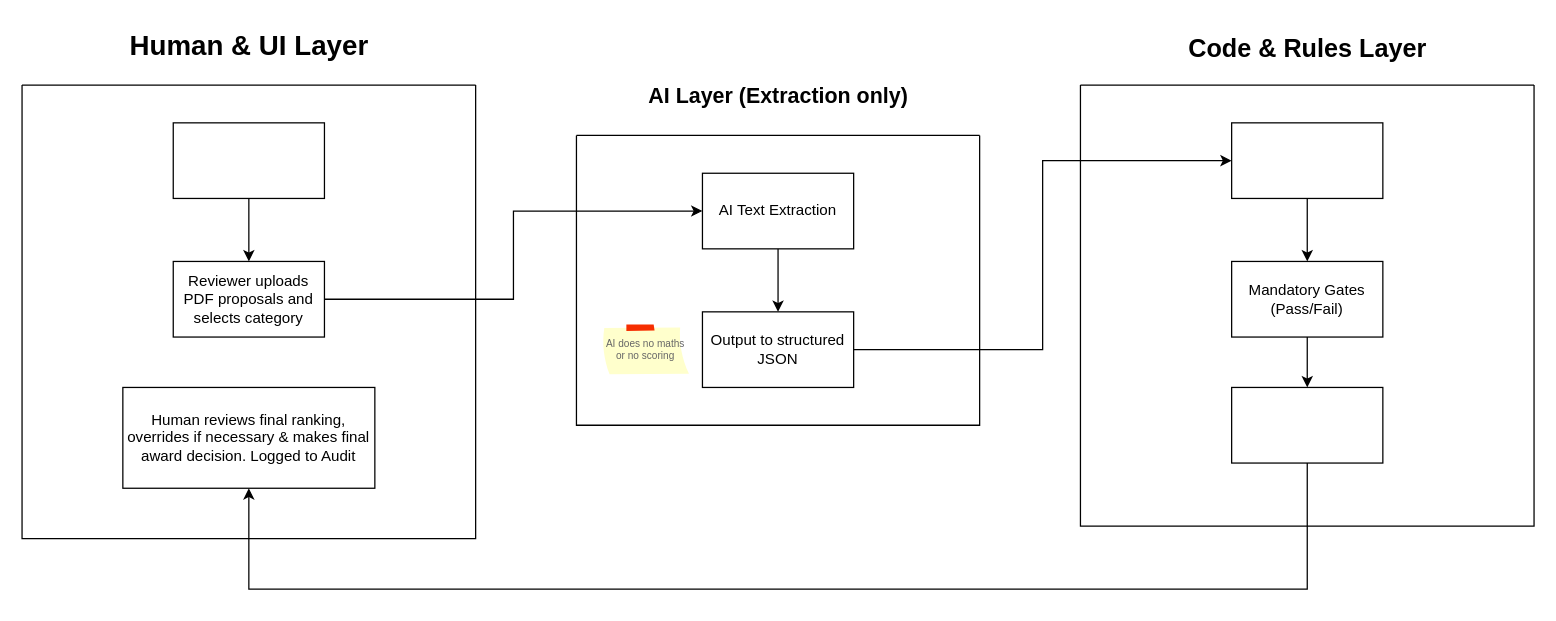
Some shapes in this 1556 by 621 pixel diagram are drawn without their labels. Here are the shapes that lost their labels. From the top down, the centre of each, then its label:
At point 248,160: "Admin sets criteria and weights via UI".
At point 1306,160: "Anomaly & Injection Scan".
At point 1306,424: "Weighted Maths Engine".
